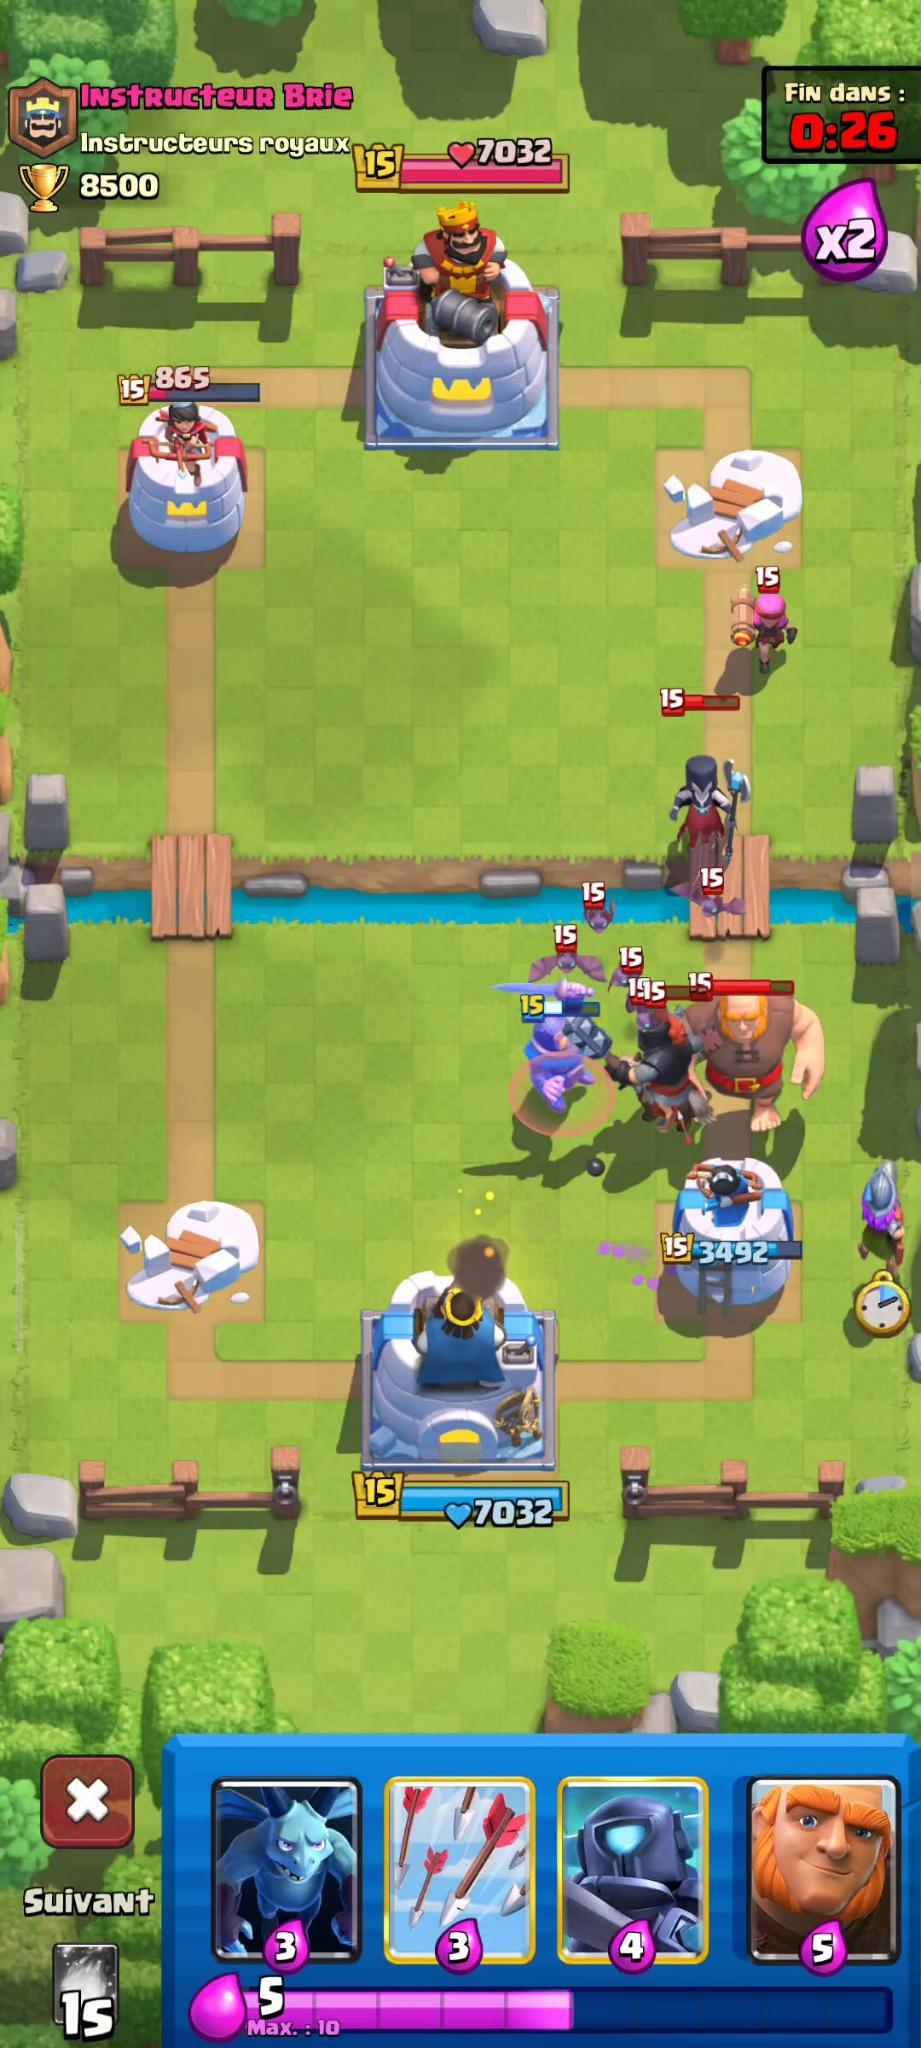enemy_bats: (522, 923, 607, 986), (678, 859, 750, 925), (569, 875, 627, 938), (606, 950, 655, 1004)
enemy_dark_prince: (563, 1001, 718, 1139)
enemy_firecracker: (720, 565, 805, 673)
enemy_giant: (680, 971, 830, 1131)
enemy_night_witch: (653, 688, 756, 851)
player_knight: (520, 970, 603, 1119)
player_musketeer: (845, 1147, 916, 1271)
